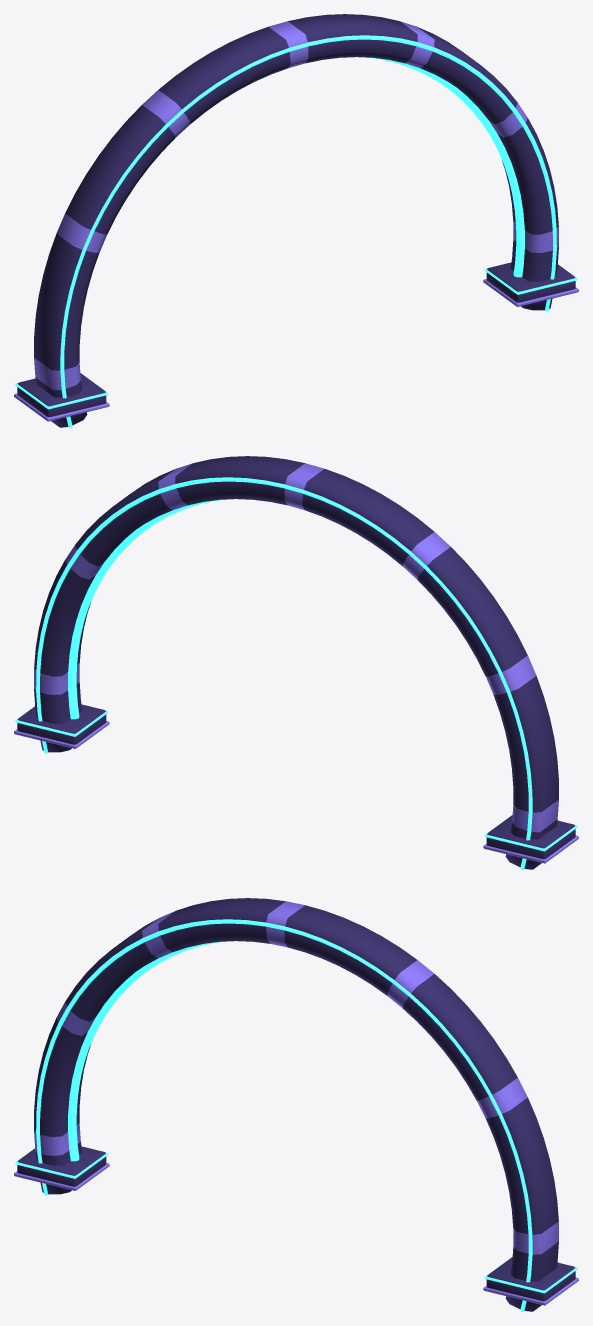
The model's file is neon_ring_cyan.glb.
3 views of the same model, one above another, from view 1: azimuth 30°, elevation 25°; view 2: azimuth 150°, elevation 25°; view 3: azimuth 330°, elevation 25° (orthographic).
Parts seen in each view (by area): view 1: neon_ring_cyan; view 2: neon_ring_cyan; view 3: neon_ring_cyan.
Part boxes in pixels (left/top/right/bottom): neon_ring_cyan: left=14, top=14, right=578, bottom=427; neon_ring_cyan: left=14, top=456, right=578, bottom=869; neon_ring_cyan: left=14, top=898, right=578, bottom=1311.
Size of the model in its own units: 32.38 by 19.42 by 3.6.
